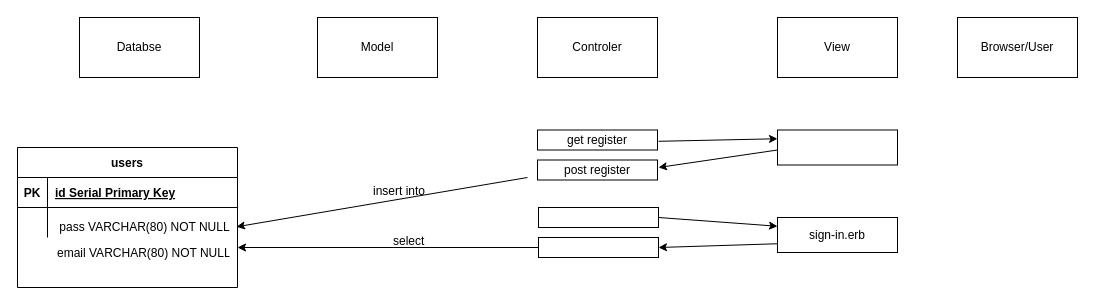
Some shapes in this 1095 by 305 pixel diagram are drawn without their labels. Here are the shapes that lost their labels. From the top down, the centre of each, then its label:
At pixel 837 147: "register.erb".
At pixel 598 217: "get sign-in".
At pixel 598 247: "post sign-in".
